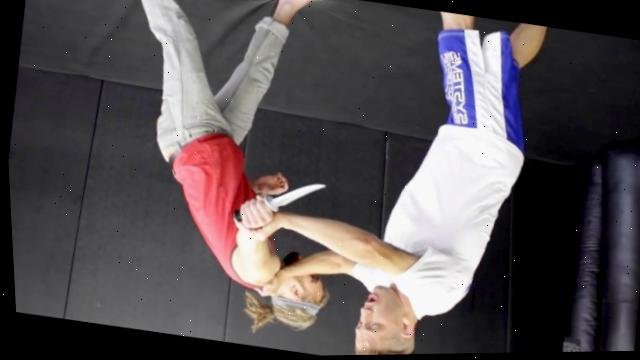long knife: (223, 164, 328, 234)
